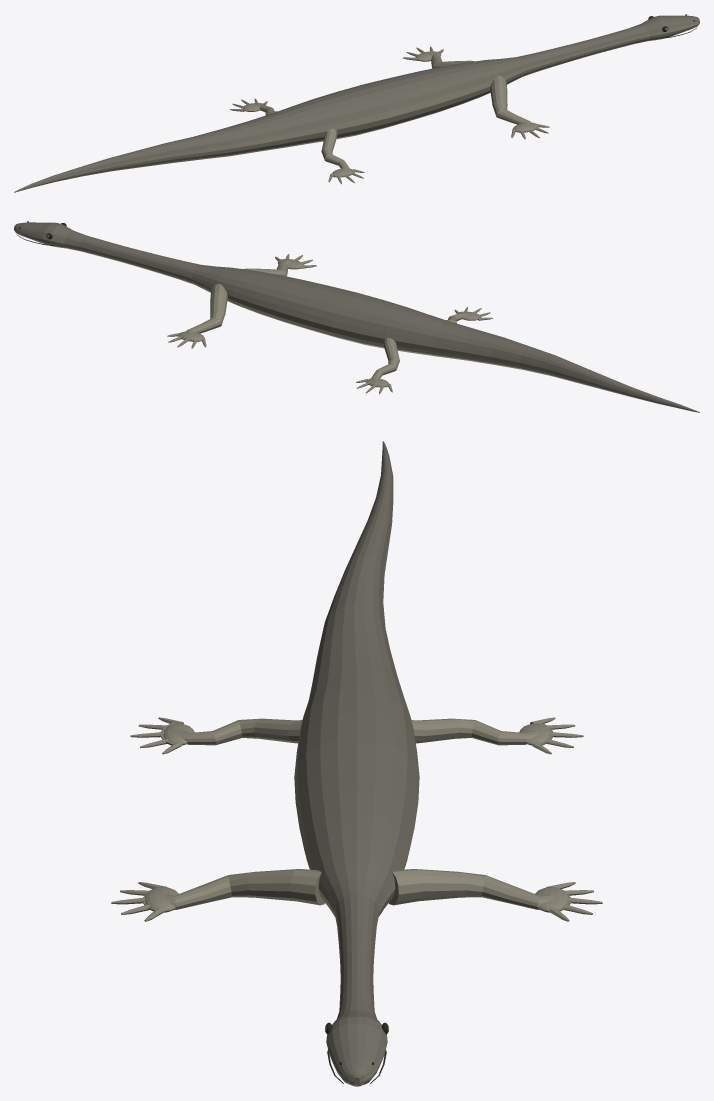
3 views of the same model, one above another, from view 1: azimuth 30°, elevation 25°; view 2: azimuth 150°, elevation 25°; view 3: azimuth 270°, elevation 25° (orthographic). The views are drawn at different scales.
Parts seen in each view (by area): view 1: axial-body-neck-head-tail, fore-right, hind-right, fore-left, hind-left; view 2: axial-body-neck-head-tail, fore-left, hind-left, fore-right, hind-right; view 3: axial-body-neck-head-tail, fore-right, fore-left, hind-left, hind-right.
Boxes of the visible parts, x1,y1,x2,y2 form: axial-body-neck-head-tail: [14, 15, 699, 192]; fore-right: [490, 75, 549, 139]; hind-right: [321, 128, 364, 184]; fore-left: [403, 46, 473, 68]; hind-left: [230, 98, 277, 115]; axial-body-neck-head-tail: [14, 222, 699, 412]; fore-left: [167, 284, 227, 348]; hind-left: [356, 338, 399, 394]; fore-right: [243, 254, 316, 276]; hind-right: [446, 307, 493, 323]; axial-body-neck-head-tail: [294, 441, 419, 1086]; fore-right: [111, 869, 324, 921]; fore-left: [389, 869, 602, 921]; hind-left: [411, 717, 583, 754]; hind-right: [130, 717, 302, 754].
Size of the model in its own units: 1.25 by 0.069 by 0.3921.
